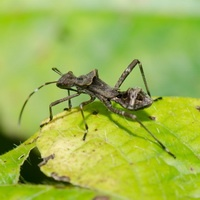insect: (18, 59, 175, 157), (118, 64, 147, 94)
